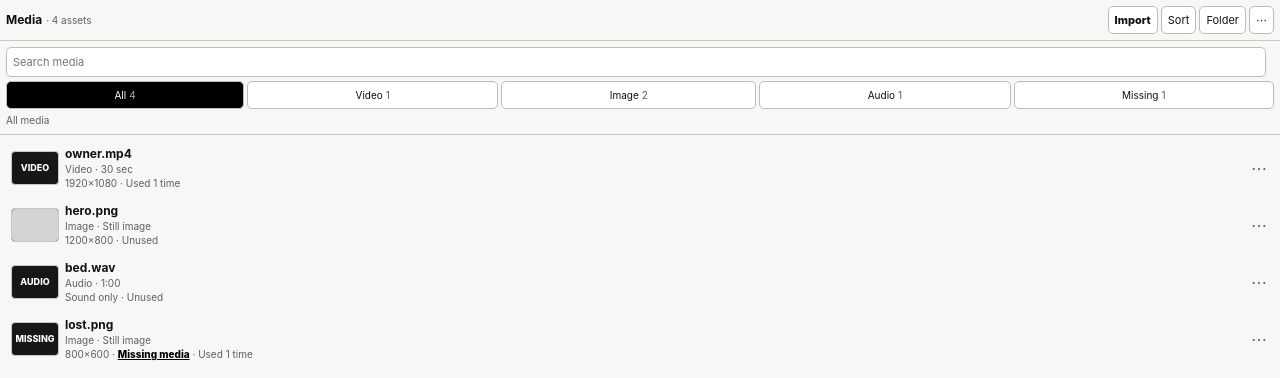
Test: MediaBin › searches and filters locally, clears search, and shows a no-results recovery
The width and height of the screenshot is (1280, 378).
In the field labelled "Search media": (636, 62) [6, 47, 1266, 77], type "HERO"
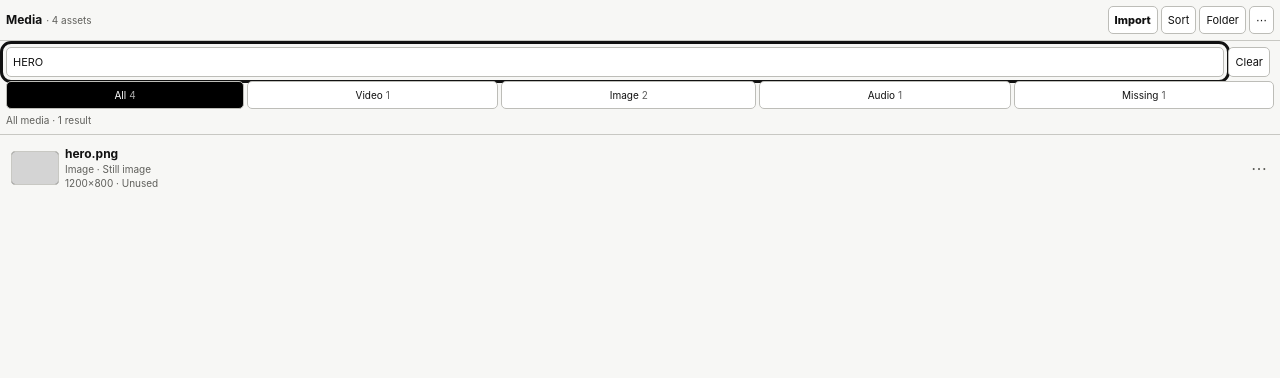
Now the text "All media · 1 result" is shown, box [6, 114, 91, 126]
Now the button "bed.wav" is gone
Click the button "Clear": (1249, 62) [1228, 47, 1270, 77]
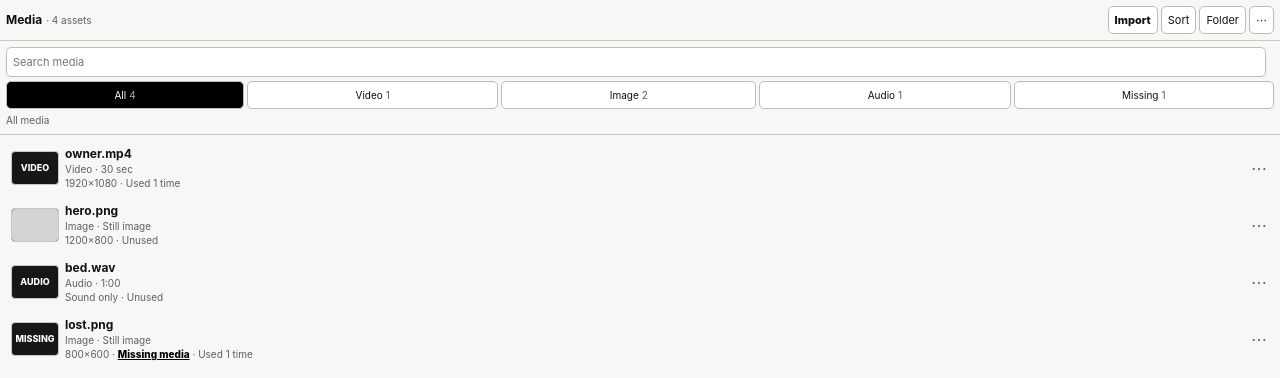
Click the button "Audio 1": (885, 95) [759, 81, 1011, 109]
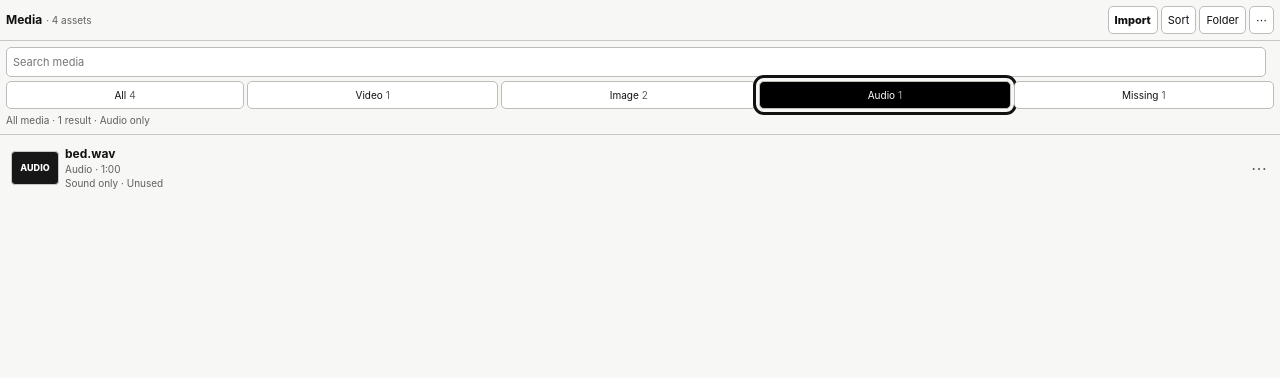
Now the text "bed.wav" is shown, box [65, 146, 115, 161]
Now the button "hero.png" is gone
In the field labelled "Search media": (636, 62) [6, 47, 1266, 77], type "nothing-here"
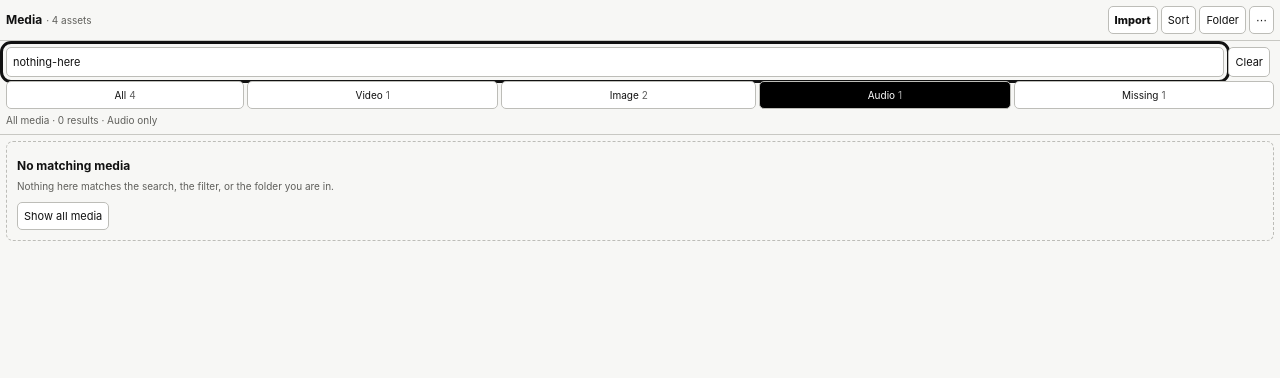
Now the text "No matching media" is shown, box [17, 158, 130, 173]
Click the button "Show all media": (63, 216) [17, 202, 109, 230]
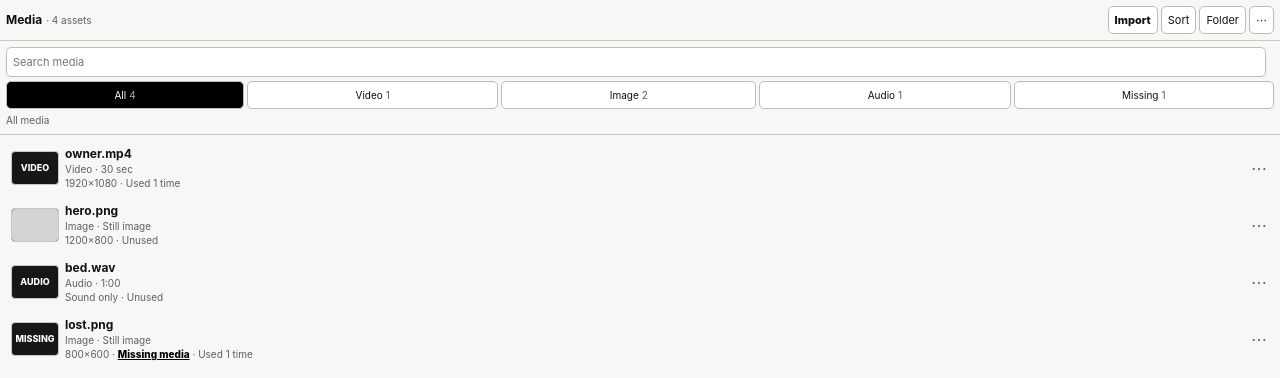
Now the text "owner.mp4" is shown, box [65, 146, 132, 161]
